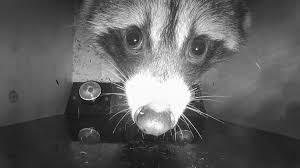raccoon: (64, 0, 264, 151)
